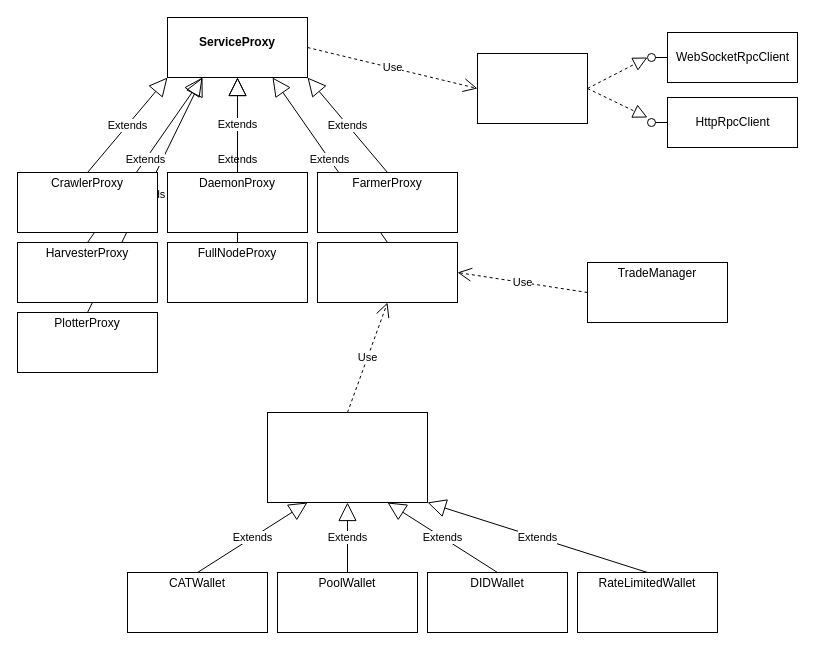
Some shapes in this 815 by 650 pixel diagram are drawn without their labels. The shapes that lost their labels are listed below. From the top down, each one's centre as x and y in pixels, then its label:
At point 532,88: "<<Interface>> IRpcClient".
At point 387,272: "WalletProxy".
At point 347,457: "Wallet WalletID = uint32".
